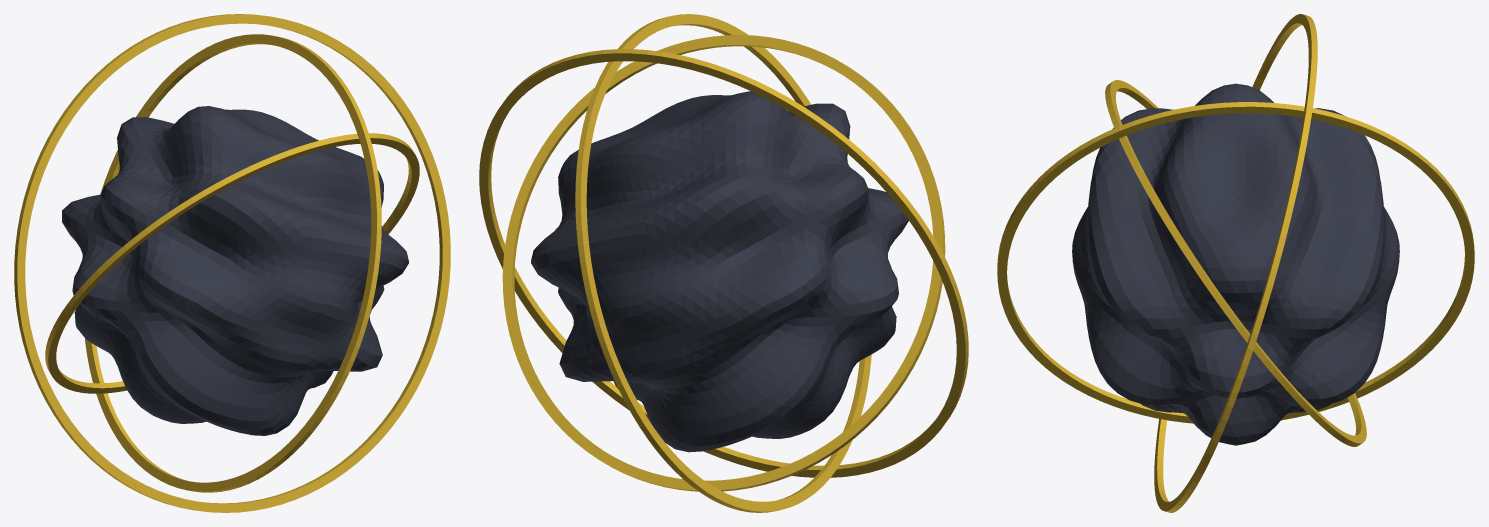
File: gpu-artifact.glb
3 renders of one model, left to right at view 1: azimuth 30°, elevation 25°; view 2: azimuth 150°, elevation 25°; view 3: azimuth 270°, elevation 25°, orthographic. The views are drawn at different scales.
Visible parts, largest first — view 1: etsy-pod-forge_obsidian_core, etsy-pod-forge_orbital_ring_2, etsy-pod-forge_orbital_ring_1, etsy-pod-forge_orbital_ring_0; view 2: etsy-pod-forge_obsidian_core, etsy-pod-forge_orbital_ring_0, etsy-pod-forge_orbital_ring_2, etsy-pod-forge_orbital_ring_1; view 3: etsy-pod-forge_obsidian_core, etsy-pod-forge_orbital_ring_1, etsy-pod-forge_orbital_ring_2, etsy-pod-forge_orbital_ring_0.
Boxes of the visible parts, bbox=[...] form: etsy-pod-forge_obsidian_core: bbox=[62, 106, 408, 435]; etsy-pod-forge_orbital_ring_2: bbox=[14, 14, 450, 512]; etsy-pod-forge_orbital_ring_1: bbox=[85, 34, 381, 492]; etsy-pod-forge_orbital_ring_0: bbox=[45, 133, 419, 393]; etsy-pod-forge_obsidian_core: bbox=[531, 91, 908, 452]; etsy-pod-forge_orbital_ring_0: bbox=[502, 35, 945, 491]; etsy-pod-forge_orbital_ring_2: bbox=[479, 49, 968, 477]; etsy-pod-forge_orbital_ring_1: bbox=[575, 14, 871, 512]; etsy-pod-forge_obsidian_core: bbox=[1072, 83, 1399, 445]; etsy-pod-forge_orbital_ring_1: bbox=[997, 102, 1474, 423]; etsy-pod-forge_orbital_ring_2: bbox=[1154, 14, 1317, 512]; etsy-pod-forge_orbital_ring_0: bbox=[1105, 80, 1366, 446].
Bounding box in the file's own units: 3.24 × 3.1 × 3.
